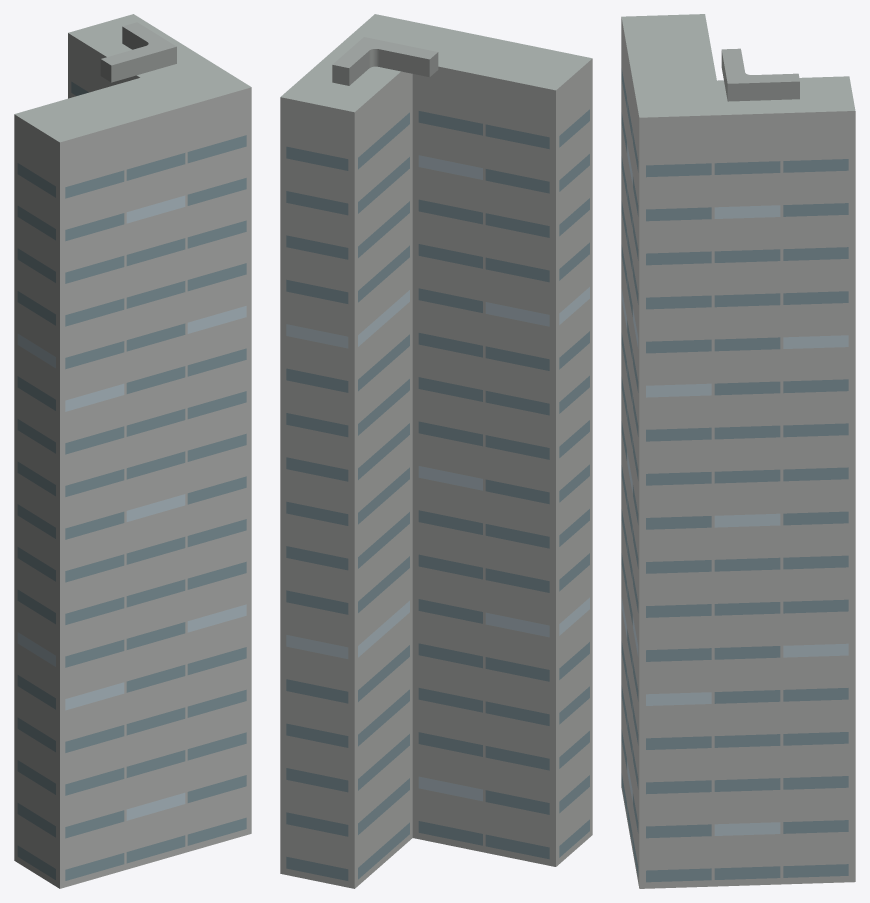
The model's file is fallback-godeok-raemian-hillstate-306.glb.
3 views of the same model, side by side, from view 1: azimuth 30°, elevation 25°; view 2: azimuth 150°, elevation 25°; view 3: azimuth 270°, elevation 25° (orthographic). The views are drawn at different scales.
Parts seen in each view (by area): view 1: fallback-godeok-raemian-hillstate-306; view 2: fallback-godeok-raemian-hillstate-306; view 3: fallback-godeok-raemian-hillstate-306.
Boxes of the visible parts, x1,y1,x2,y2 form: fallback-godeok-raemian-hillstate-306: (14,14,251,888); fallback-godeok-raemian-hillstate-306: (280,14,592,888); fallback-godeok-raemian-hillstate-306: (621,14,855,888).
Bounding box in the file's own units: 30.18 × 107 × 28.76.
